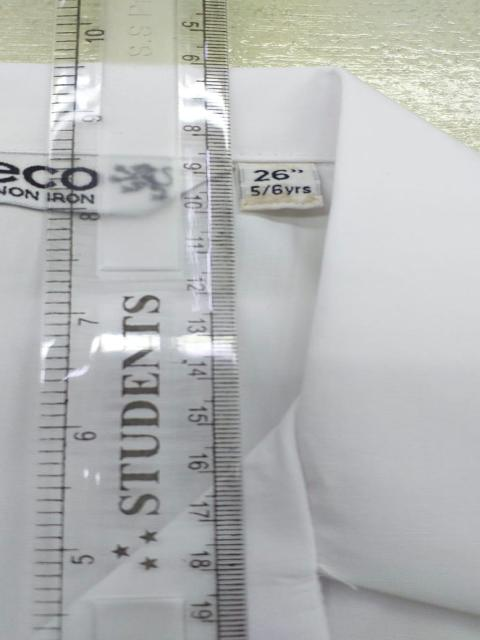Dirty_mark: (239, 197, 320, 210)
